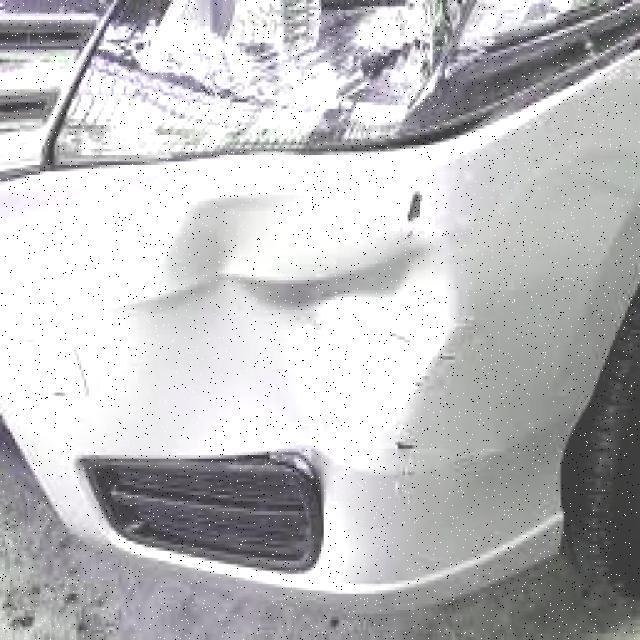car damage: (146, 179, 478, 487)
